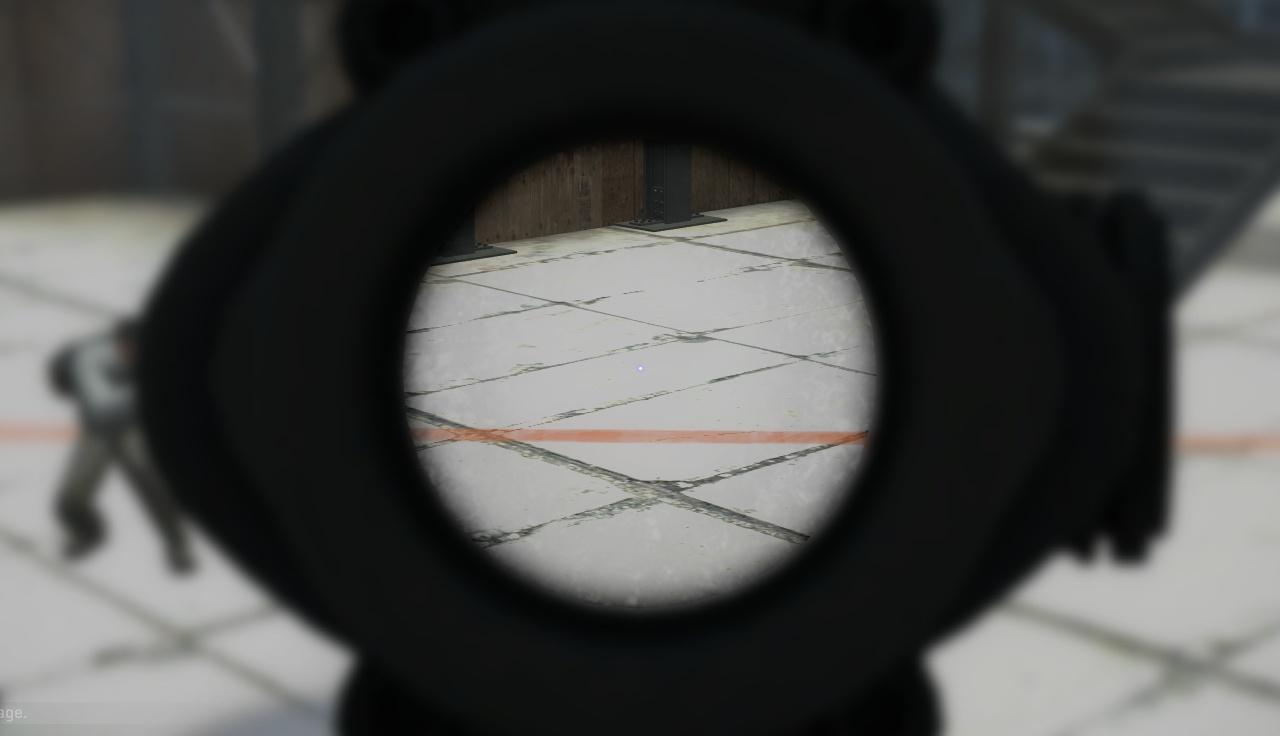tt: (45, 319, 152, 562)
